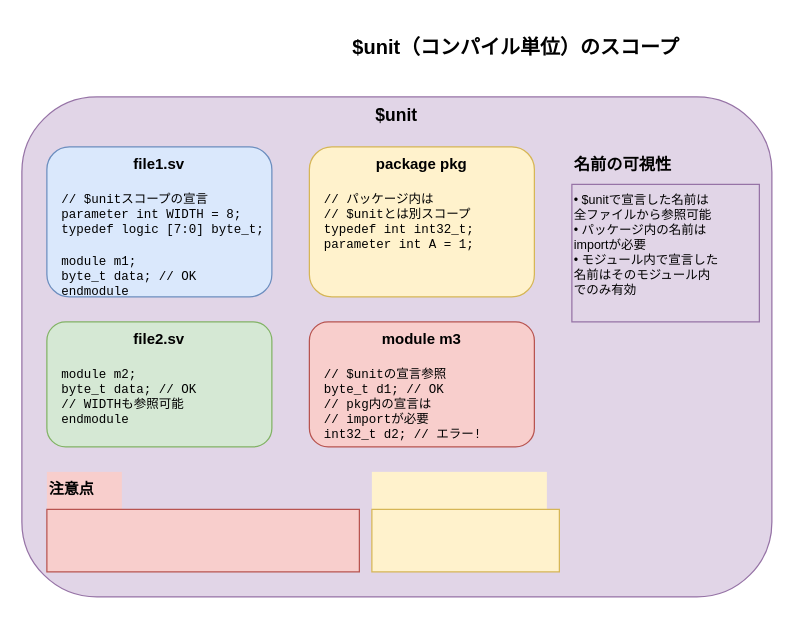
Image size: 794x619. Some labels were removed from this diagram. Here are the shapes that lost their labels. From the top down, the centre of each, then its label:
the point at 458,490: コンパイル順序依存
the point at 202,540: • $unit変数の乱用は名前衝突の原因 • パッケージの使用を推奨 • できる限りスコープを限定する
the point at 465,540: $unitの宣言はコンパイル 順序に依存する → 並び順に注意
